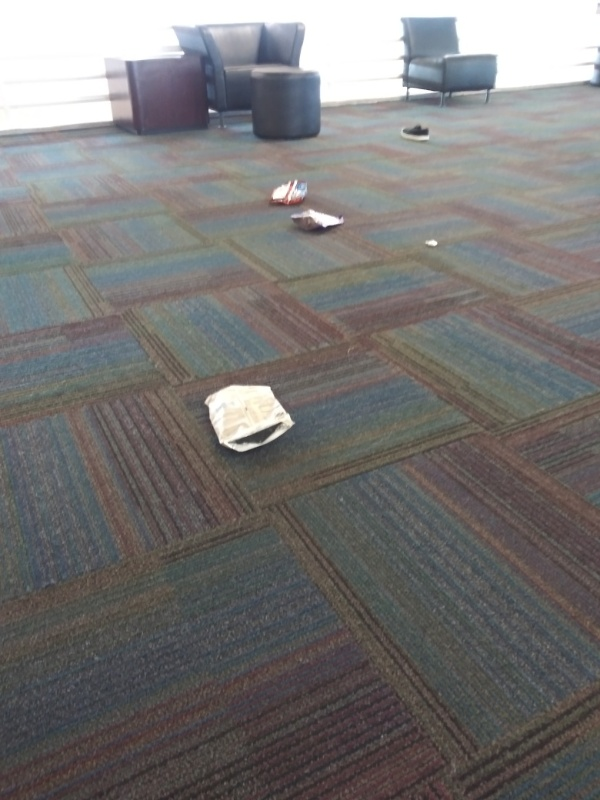bag: (197, 378, 300, 456), (282, 206, 352, 233), (263, 173, 317, 207)
